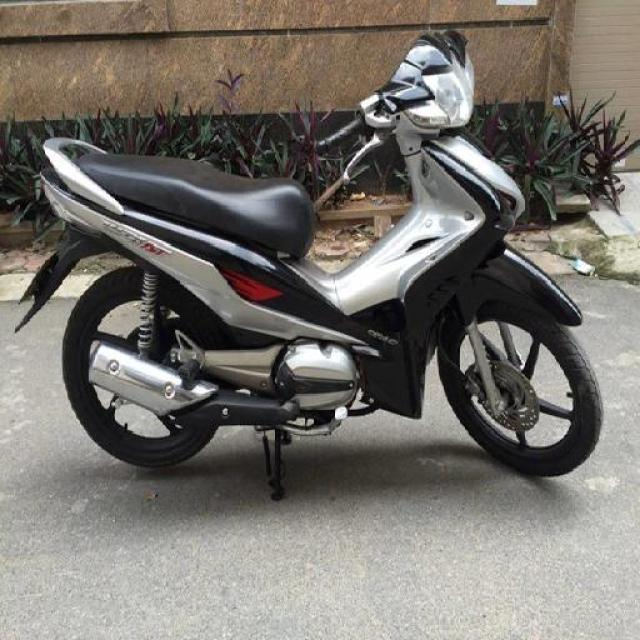All: (12, 24, 606, 506)
Head: (310, 29, 484, 150)
Tail: (27, 130, 126, 227)
